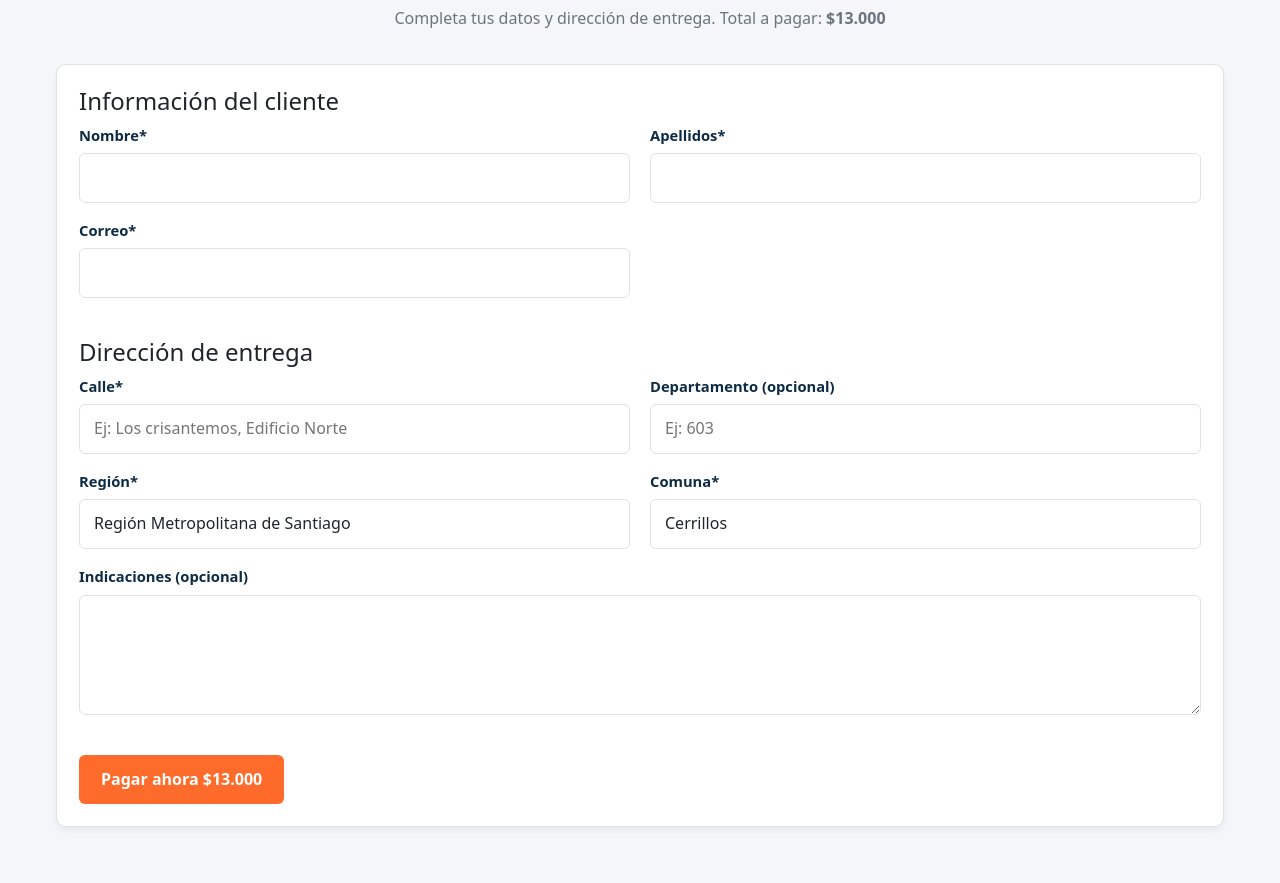
Checkout › deberia mostrar error y no navegar si el formulario esta incompleto
(page scrolled)
Click the button "Pagar ahora $13.000" at point(182, 779), box [79,754,284,804]
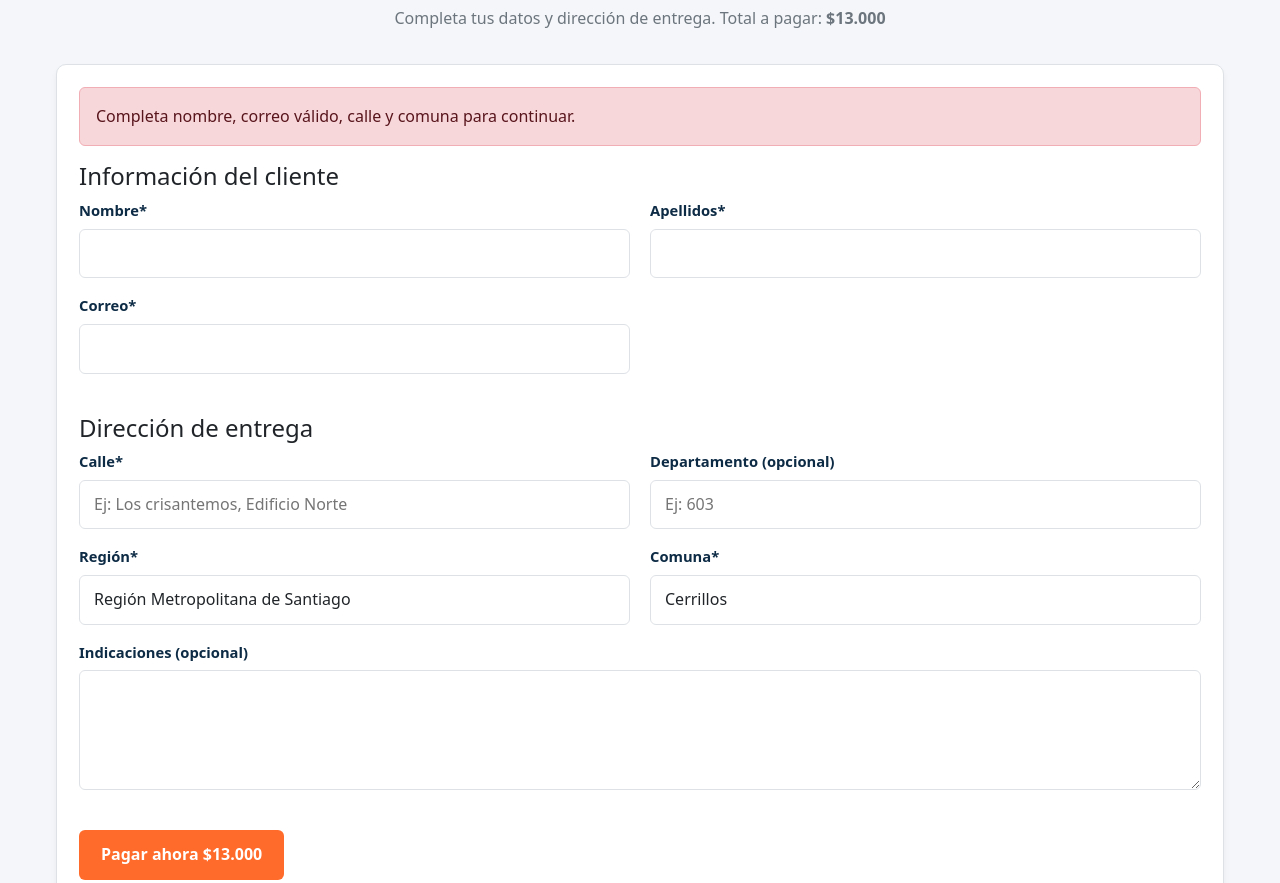
Check: the button "Pagar ahora $13.000" is shown, box [79,830,284,880]
Check: the text "Completa nombre, correo válido, calle y comuna para continuar." is shown, box [79,87,1201,146]
